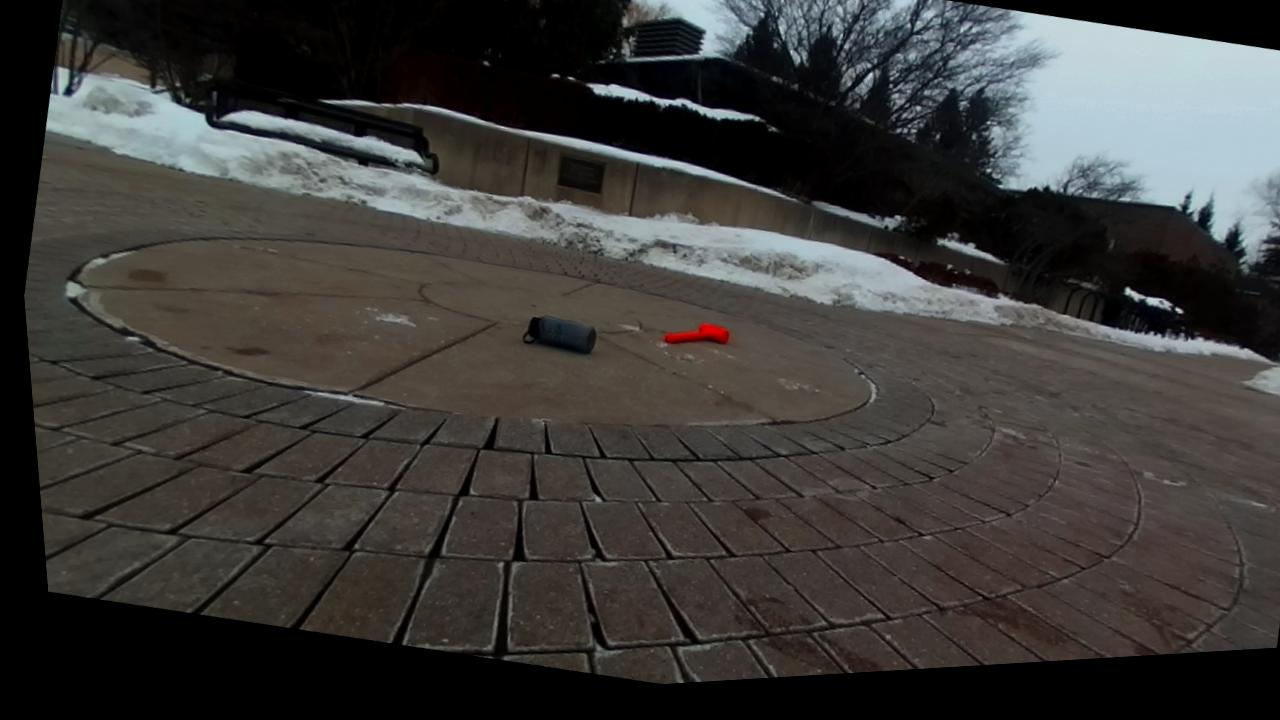bottle: (524, 316, 595, 353)
mallet: (664, 323, 728, 343)
